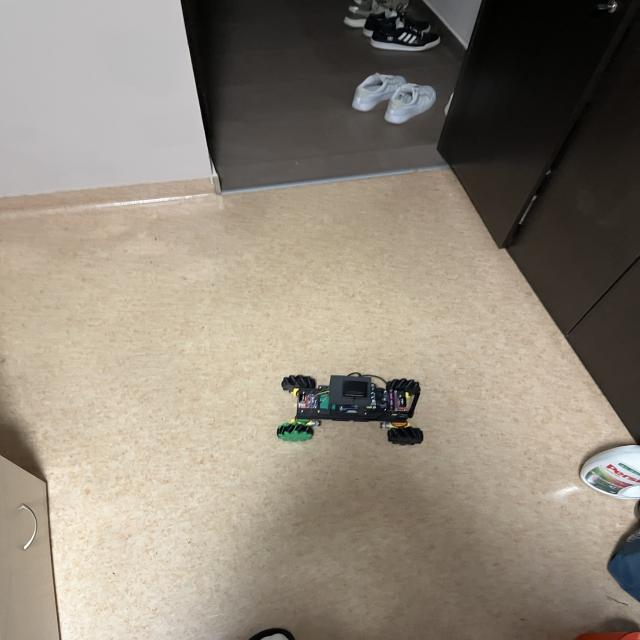robot: (277, 372, 423, 445)
